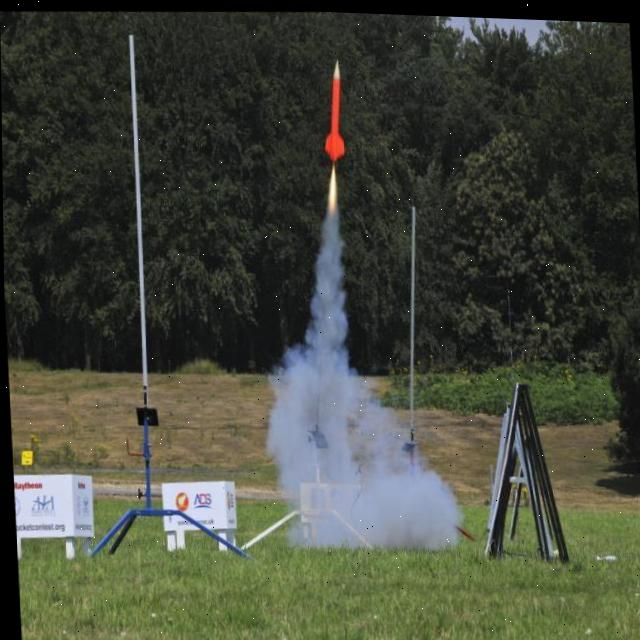missile: (317, 56, 348, 168)
